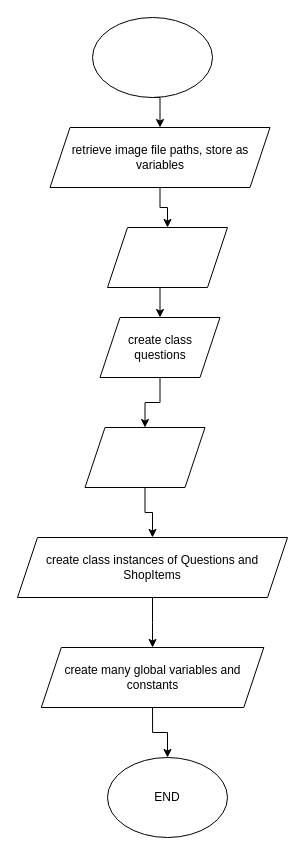
Image size: 305x855. Some labels were removed from this diagram. Here are the shapes that lost their labels. From the top down, the centre of each, then its label:
point 152,57: START constants.py
point 167,257: retrieve audio file paths, store as variables
point 144,457: create class ShopItems
